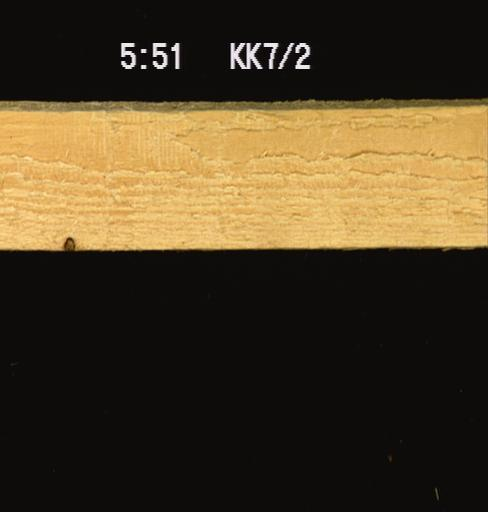edge_knot: (59, 234, 77, 254)
